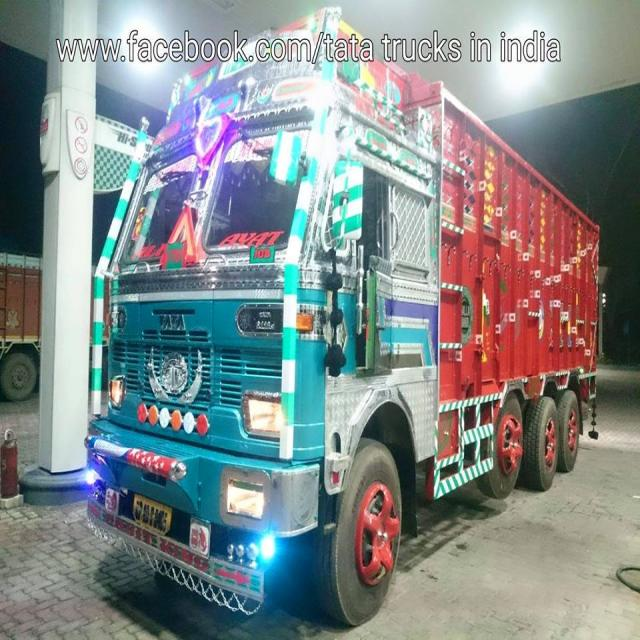truck: (87, 4, 612, 630)
